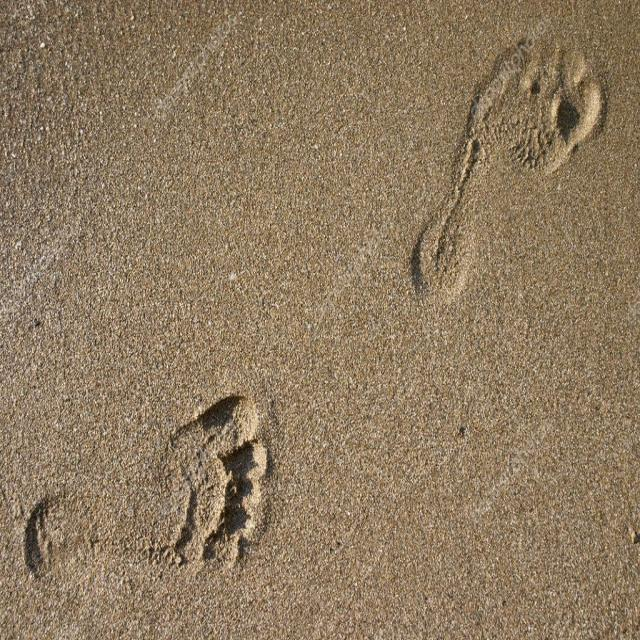human_foot_print: (20, 4, 619, 614)
